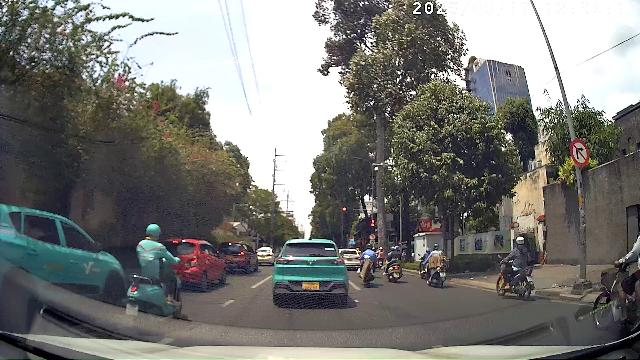123b-cam-re-phai: (569, 139, 589, 167)
